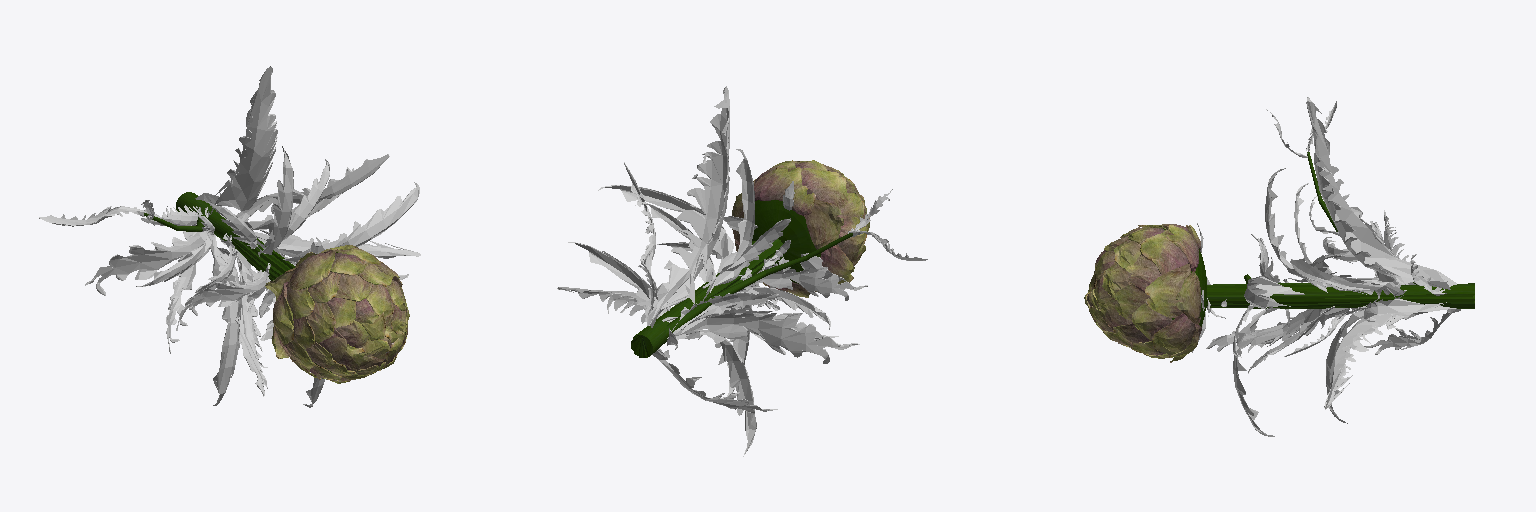
The picture shows the model from 3 angles: view 1: azimuth 30°, elevation 25°; view 2: azimuth 150°, elevation 25°; view 3: azimuth 270°, elevation 25°; orthographic projection.
Parts seen in each view (by area): view 1: plant_Cylinder.011; view 2: plant_Cylinder.011; view 3: plant_Cylinder.011.
Boxes of the visible parts, <box> form: plant_Cylinder.011: <box>39,66,420,407</box>; plant_Cylinder.011: <box>557,86,927,456</box>; plant_Cylinder.011: <box>1084,97,1474,436</box>.
Size of the model in its own units: 1.4 by 1.23 by 1.26.
Materials: 3 (2 with a texture image).